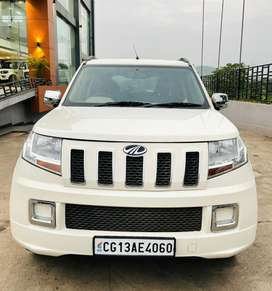CG13AE4060: (94, 237, 173, 255)
